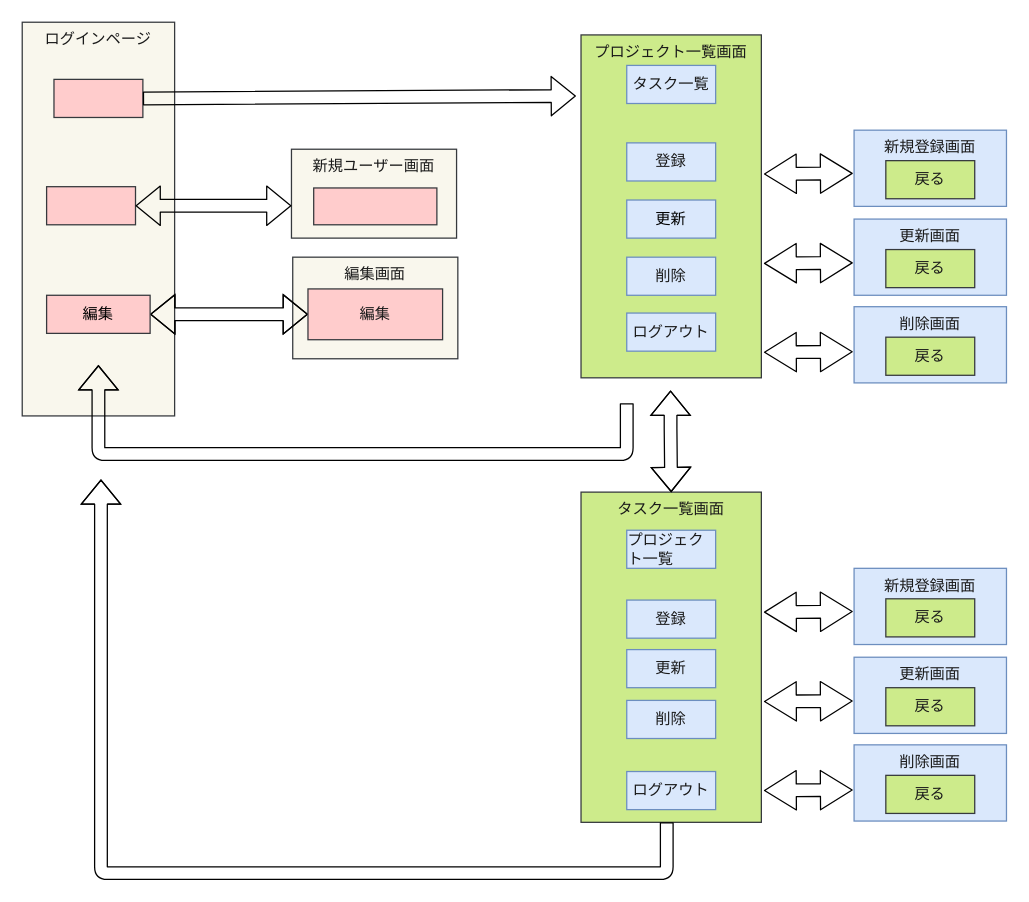
Image size: 1029x902. Some labels were removed from this diagram. The centre of each missing label's shape, as x and y in pixels:
"ログイン" belongs at point (98, 97).
"新規ユーザ 登録" belongs at point (90, 205).
"新規ユーザ登録" belongs at point (374, 206).
